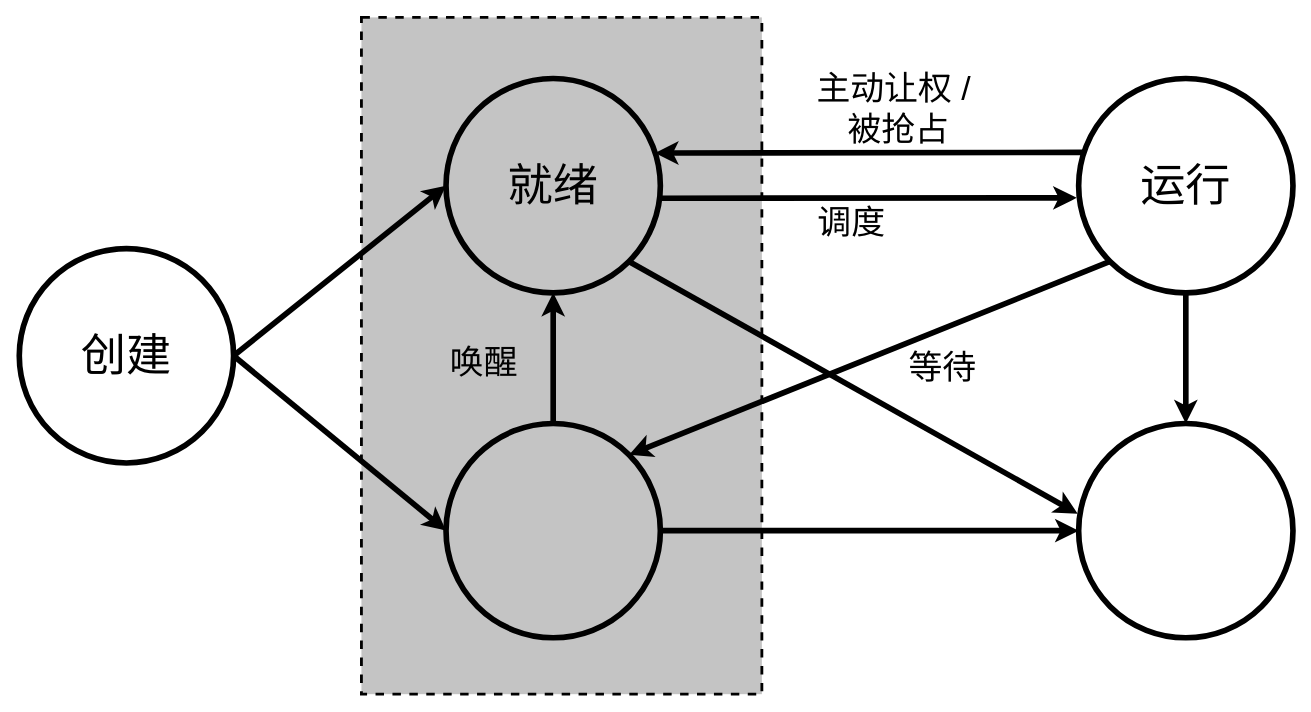
Image size: 1311x712. Some labels were removed from this diagram. The shapes that lost their labels are listed below. From the top down, each one's centre as x and y in pixels, then its label:
At (x=553, y=530): "阻塞".
At (x=1185, y=530): "退出".
